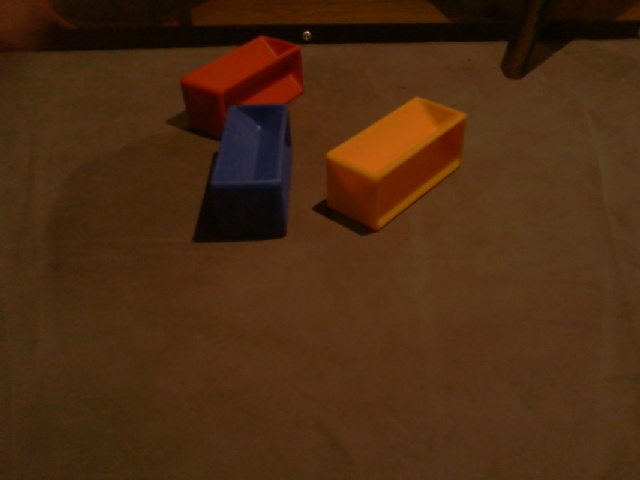BlueSample: (205, 103, 293, 239)
RedSample: (179, 35, 307, 141)
YellowSample: (322, 94, 469, 237)
